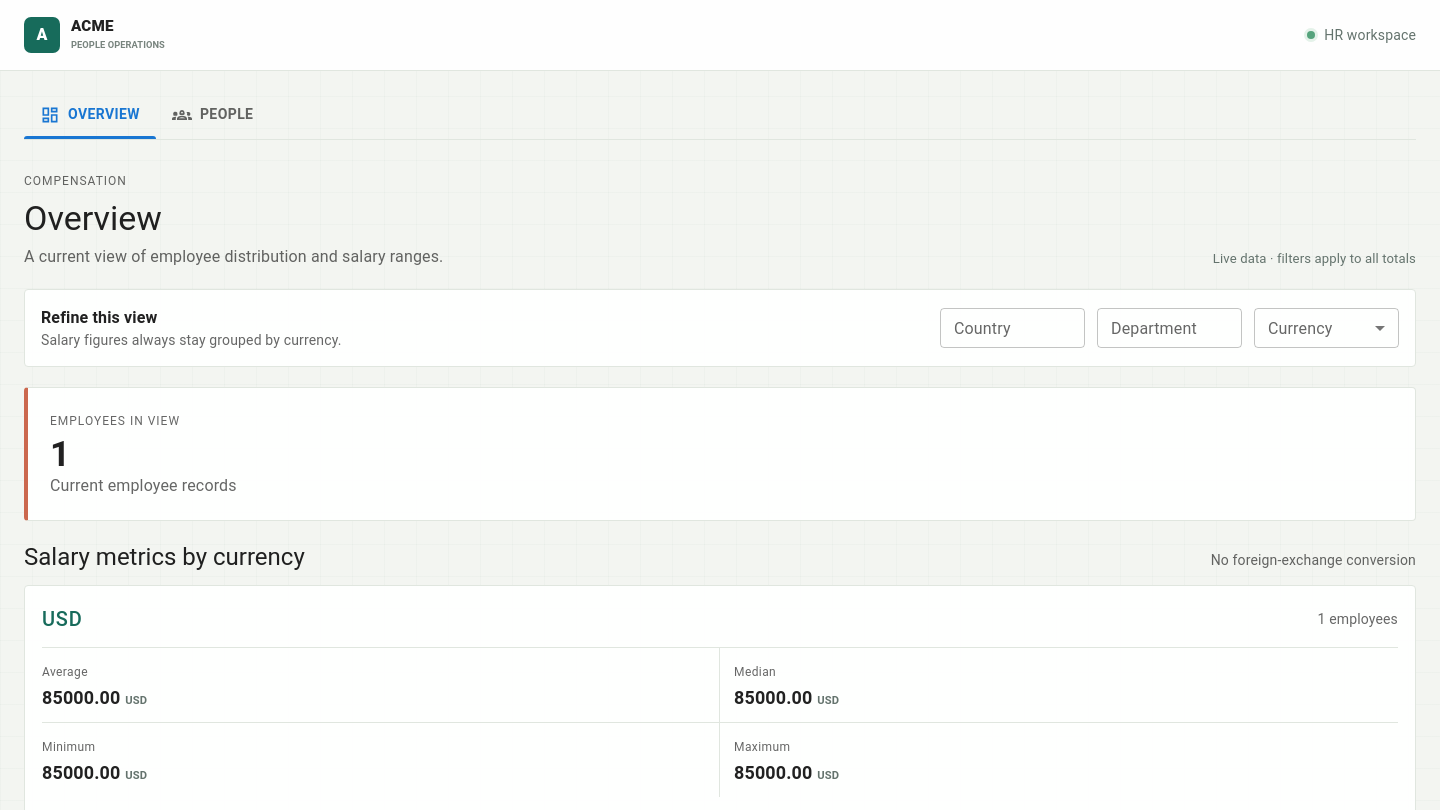
Scenario: salary management UI › renders returned employees in the directory table
Click the tab "People": point(213, 115) top-left (156, 91), bottom-right (269, 139)
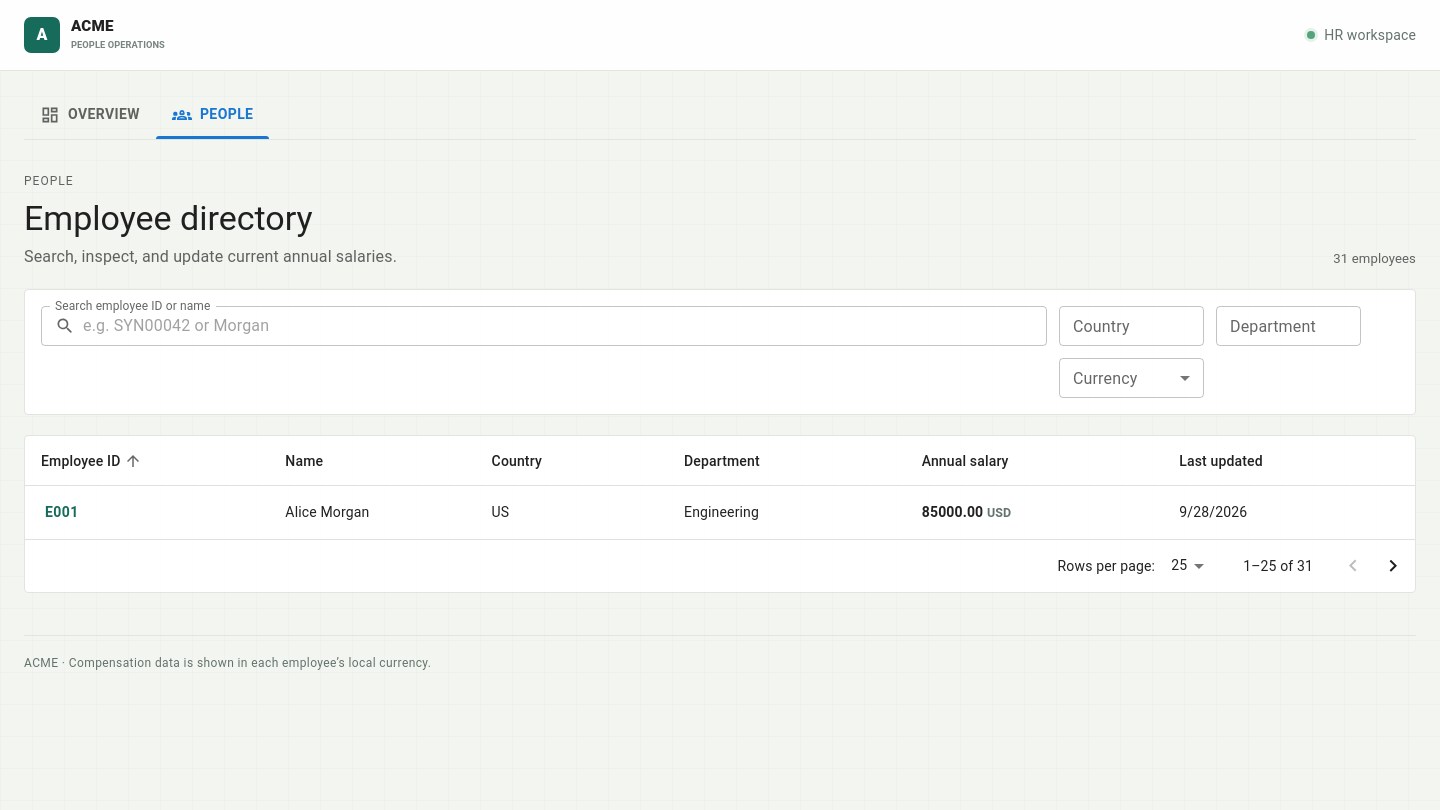
Expected: the text "85000.00" is shown, top-left (922, 504), bottom-right (983, 520)
Now the text "Alice Morgan" is shown, box top-left (269, 486), bottom-right (476, 539)
Now the table named "Employee directory" is shown, box top-left (25, 436), bottom-right (1415, 540)
